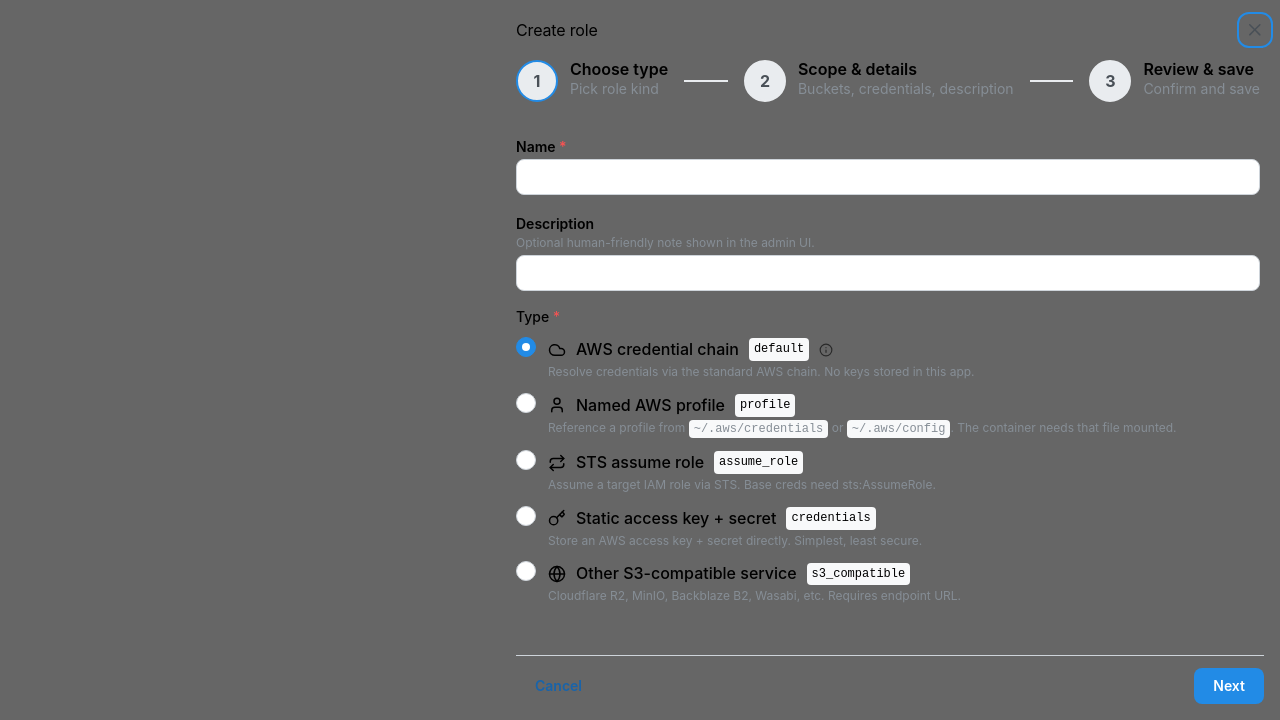
Test case: RoleDrawer › mode="create": ASIA prefix rejected
Click the radio button labelled "Static access key".
click(526, 516)  # box 516,506 -> 536,526
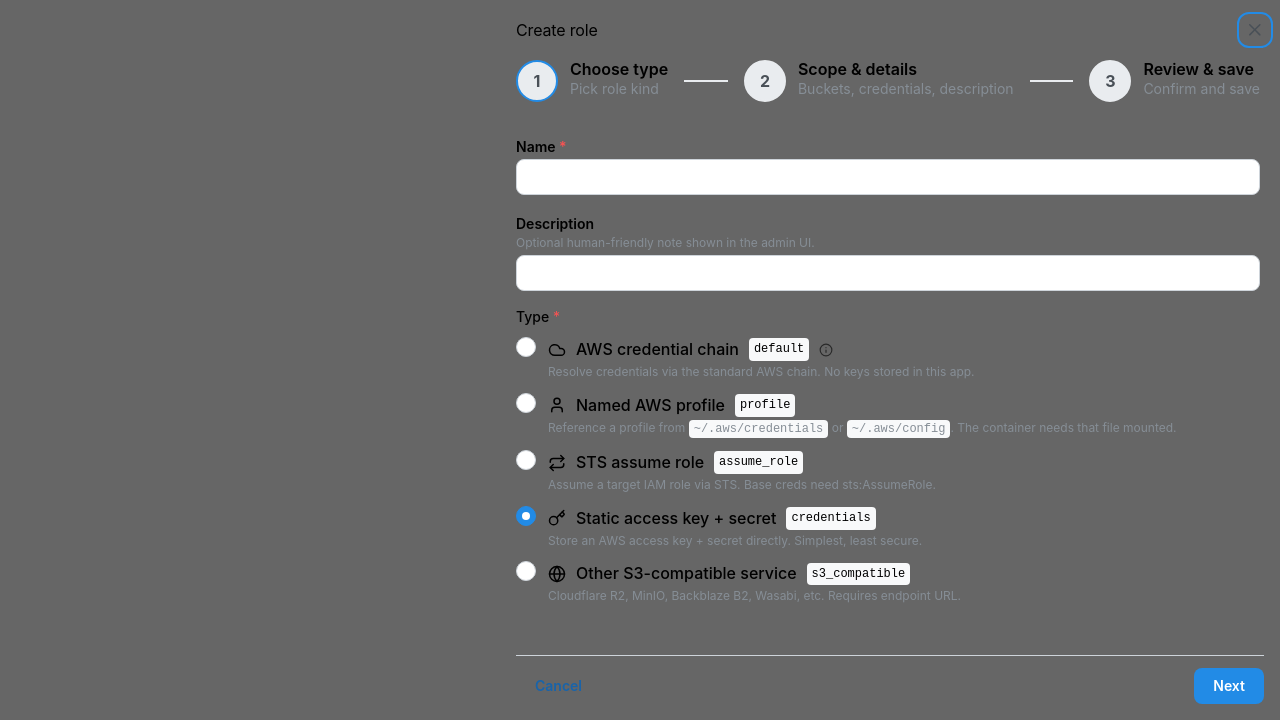
Type "AsiaKey" into the field labelled "Name *".
click(888, 177); type("AsiaKey")  # box 516,159 -> 1260,195
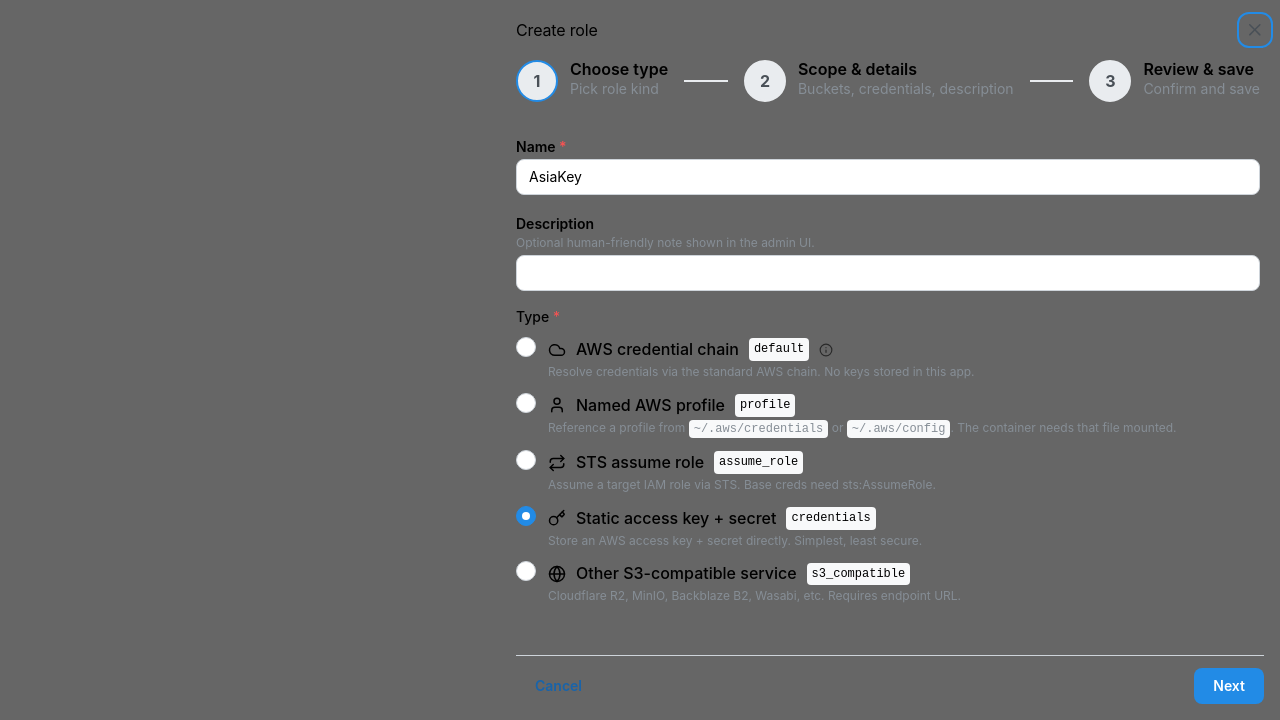
Click the button "Next".
click(1229, 686)  # box 1194,668 -> 1264,704
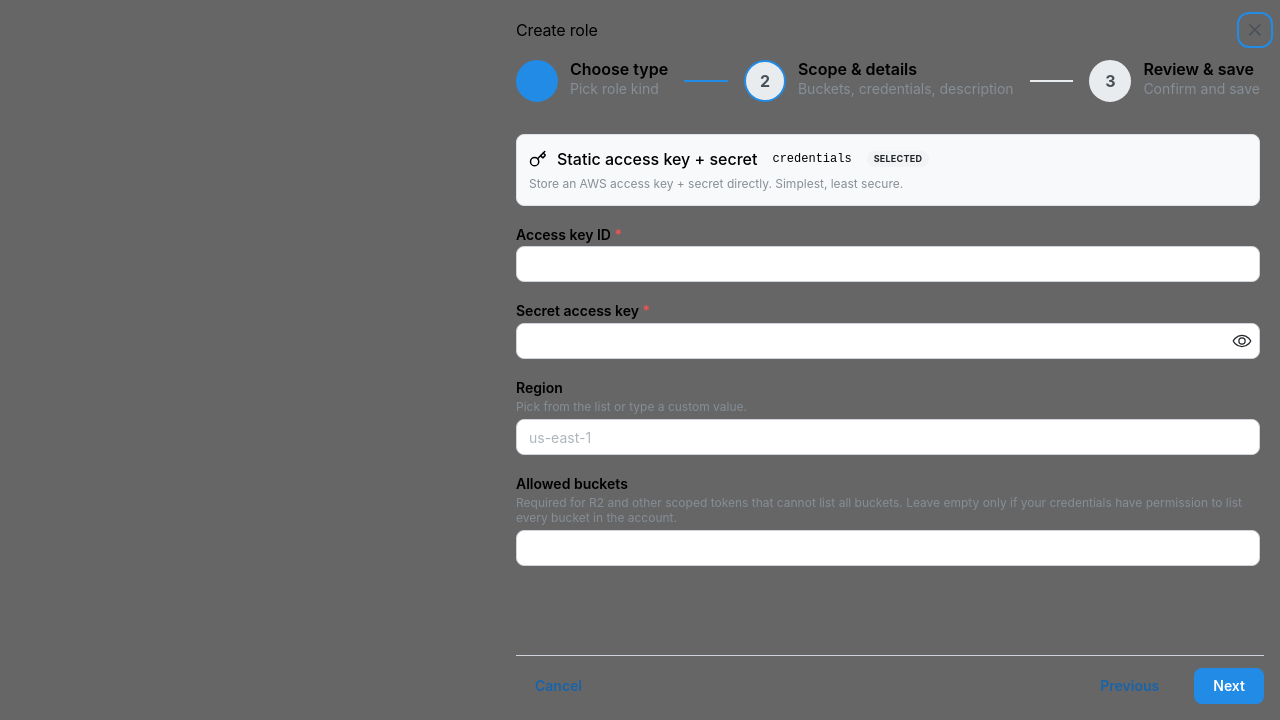
expect the field labelled "Access key ID *" is shown: met
Type "ASIAIOSFODNN7EXAMPLE" into the field labelled "Access key ID *".
click(888, 264); type("ASIAIOSFODNN7EXAMPLE")  # box 516,246 -> 1260,282
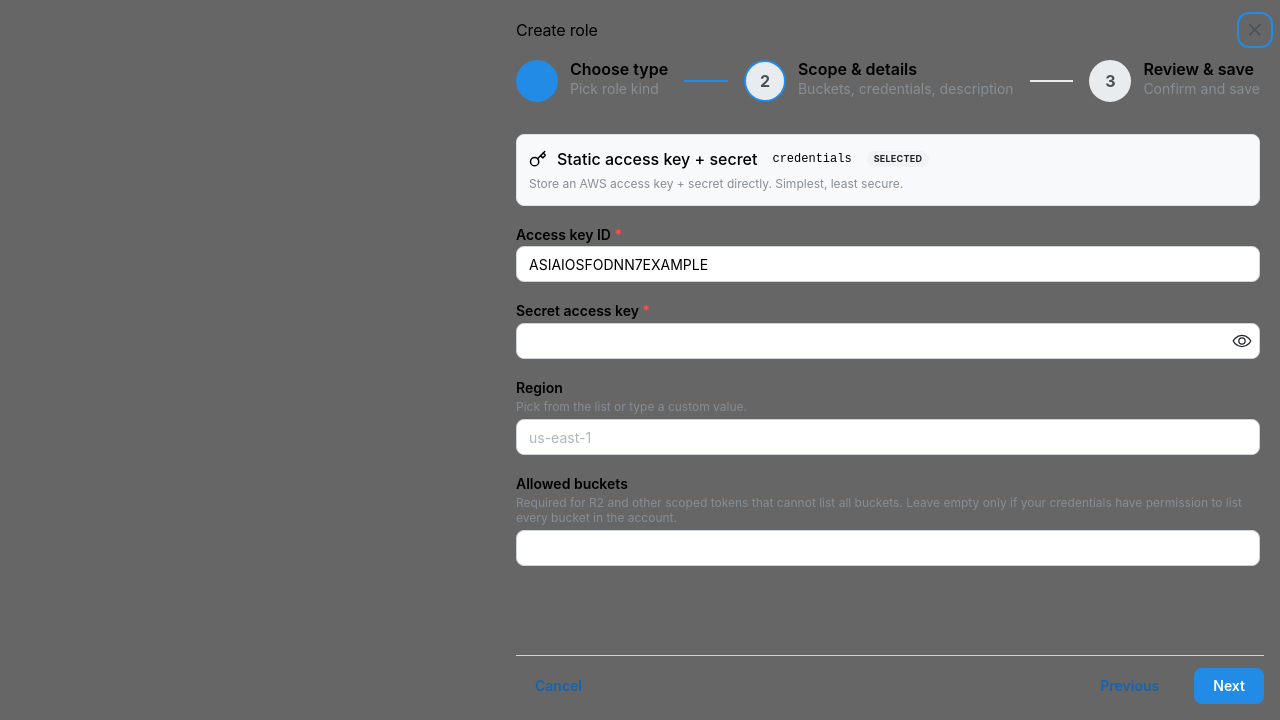
Type "anything" into the password field labelled "Secret access key *".
click(888, 341); type("anything")  # box 517,324 -> 1259,358
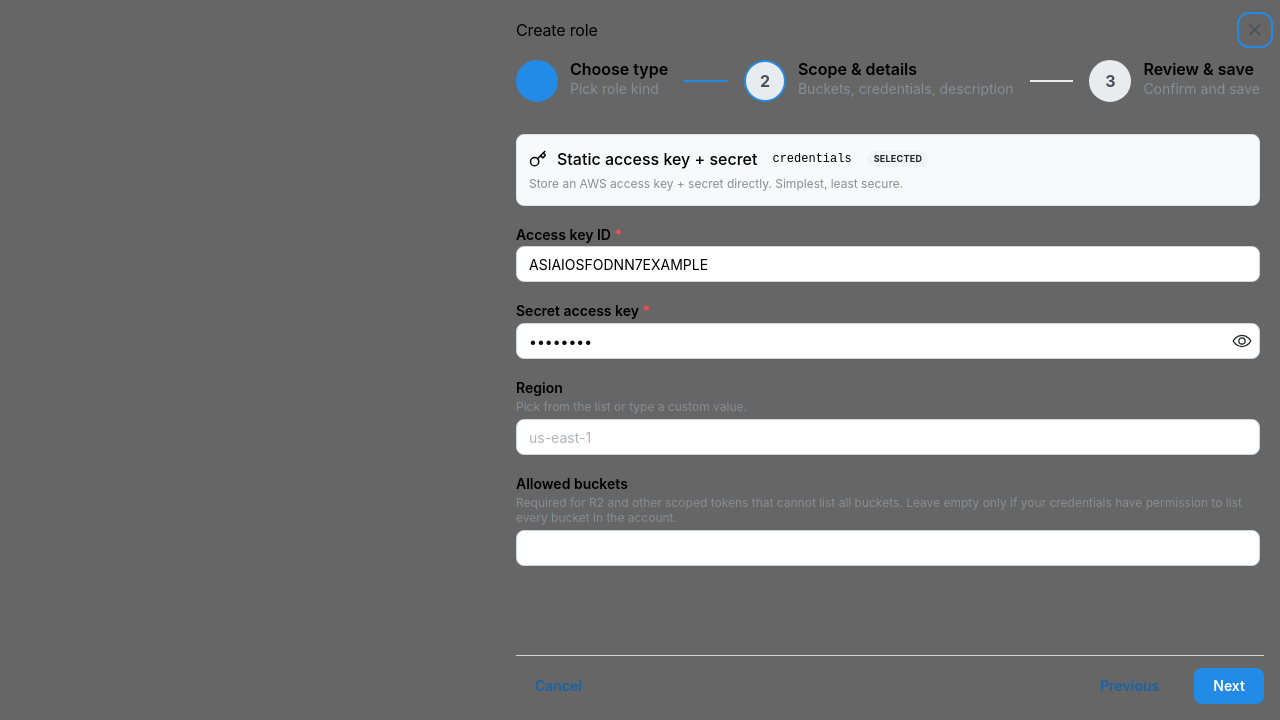
Click the button "Next".
click(1229, 686)  # box 1194,668 -> 1264,704
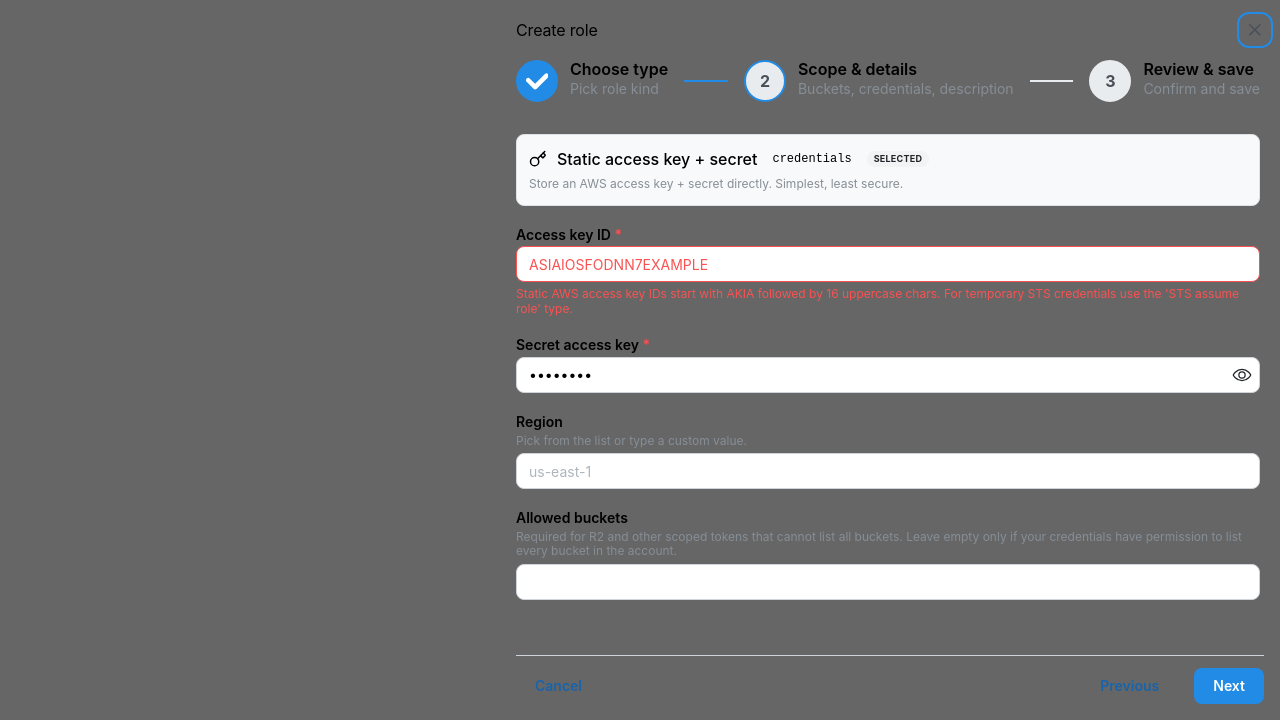
expect the text "STS assume role" is shown: met, box 516,286 -> 1239,316
